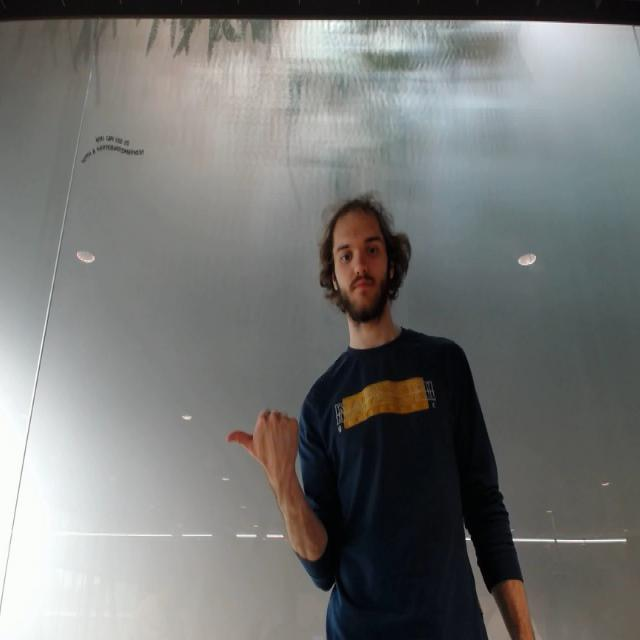left: (226, 404, 308, 477)
